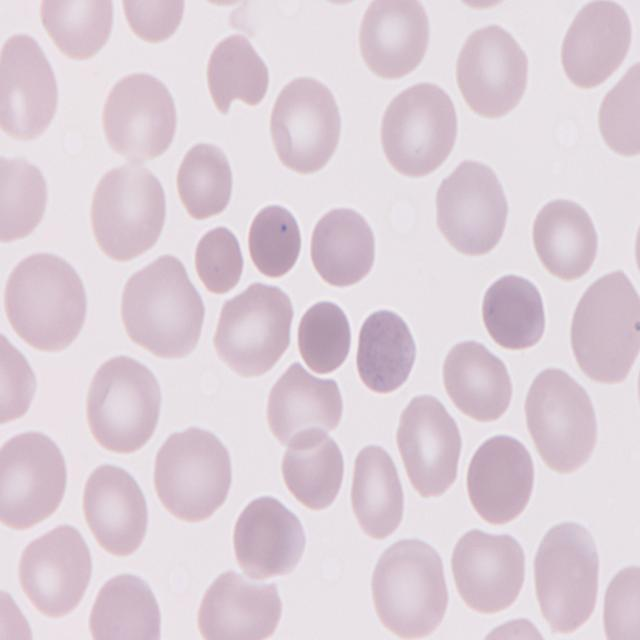RBC: (121, 254, 205, 362), (366, 532, 449, 640), (210, 280, 299, 378), (2, 251, 88, 350), (376, 81, 461, 180), (85, 355, 166, 458), (16, 524, 96, 626), (152, 426, 232, 528), (454, 22, 534, 124), (524, 371, 598, 479), (570, 274, 640, 386), (435, 162, 513, 262), (266, 76, 344, 176), (531, 526, 604, 632), (98, 66, 178, 162), (0, 430, 71, 537), (94, 164, 170, 263), (394, 395, 464, 502), (78, 459, 150, 559), (463, 434, 538, 530), (449, 528, 526, 621), (558, 0, 636, 91), (440, 338, 517, 426), (0, 31, 59, 141), (268, 364, 345, 448), (230, 492, 305, 578), (358, 0, 436, 81), (530, 195, 602, 281), (278, 429, 348, 516), (307, 206, 377, 292), (198, 571, 284, 640), (206, 29, 272, 117), (350, 447, 410, 541), (40, 0, 121, 66), (176, 138, 237, 222), (91, 569, 163, 640), (0, 147, 50, 246), (596, 64, 640, 162), (112, 0, 193, 44), (0, 336, 38, 426), (602, 566, 640, 640), (0, 582, 33, 640)
Spherocyte: (351, 307, 418, 399), (478, 268, 550, 352), (295, 294, 358, 374), (246, 202, 308, 282), (190, 222, 246, 296)
